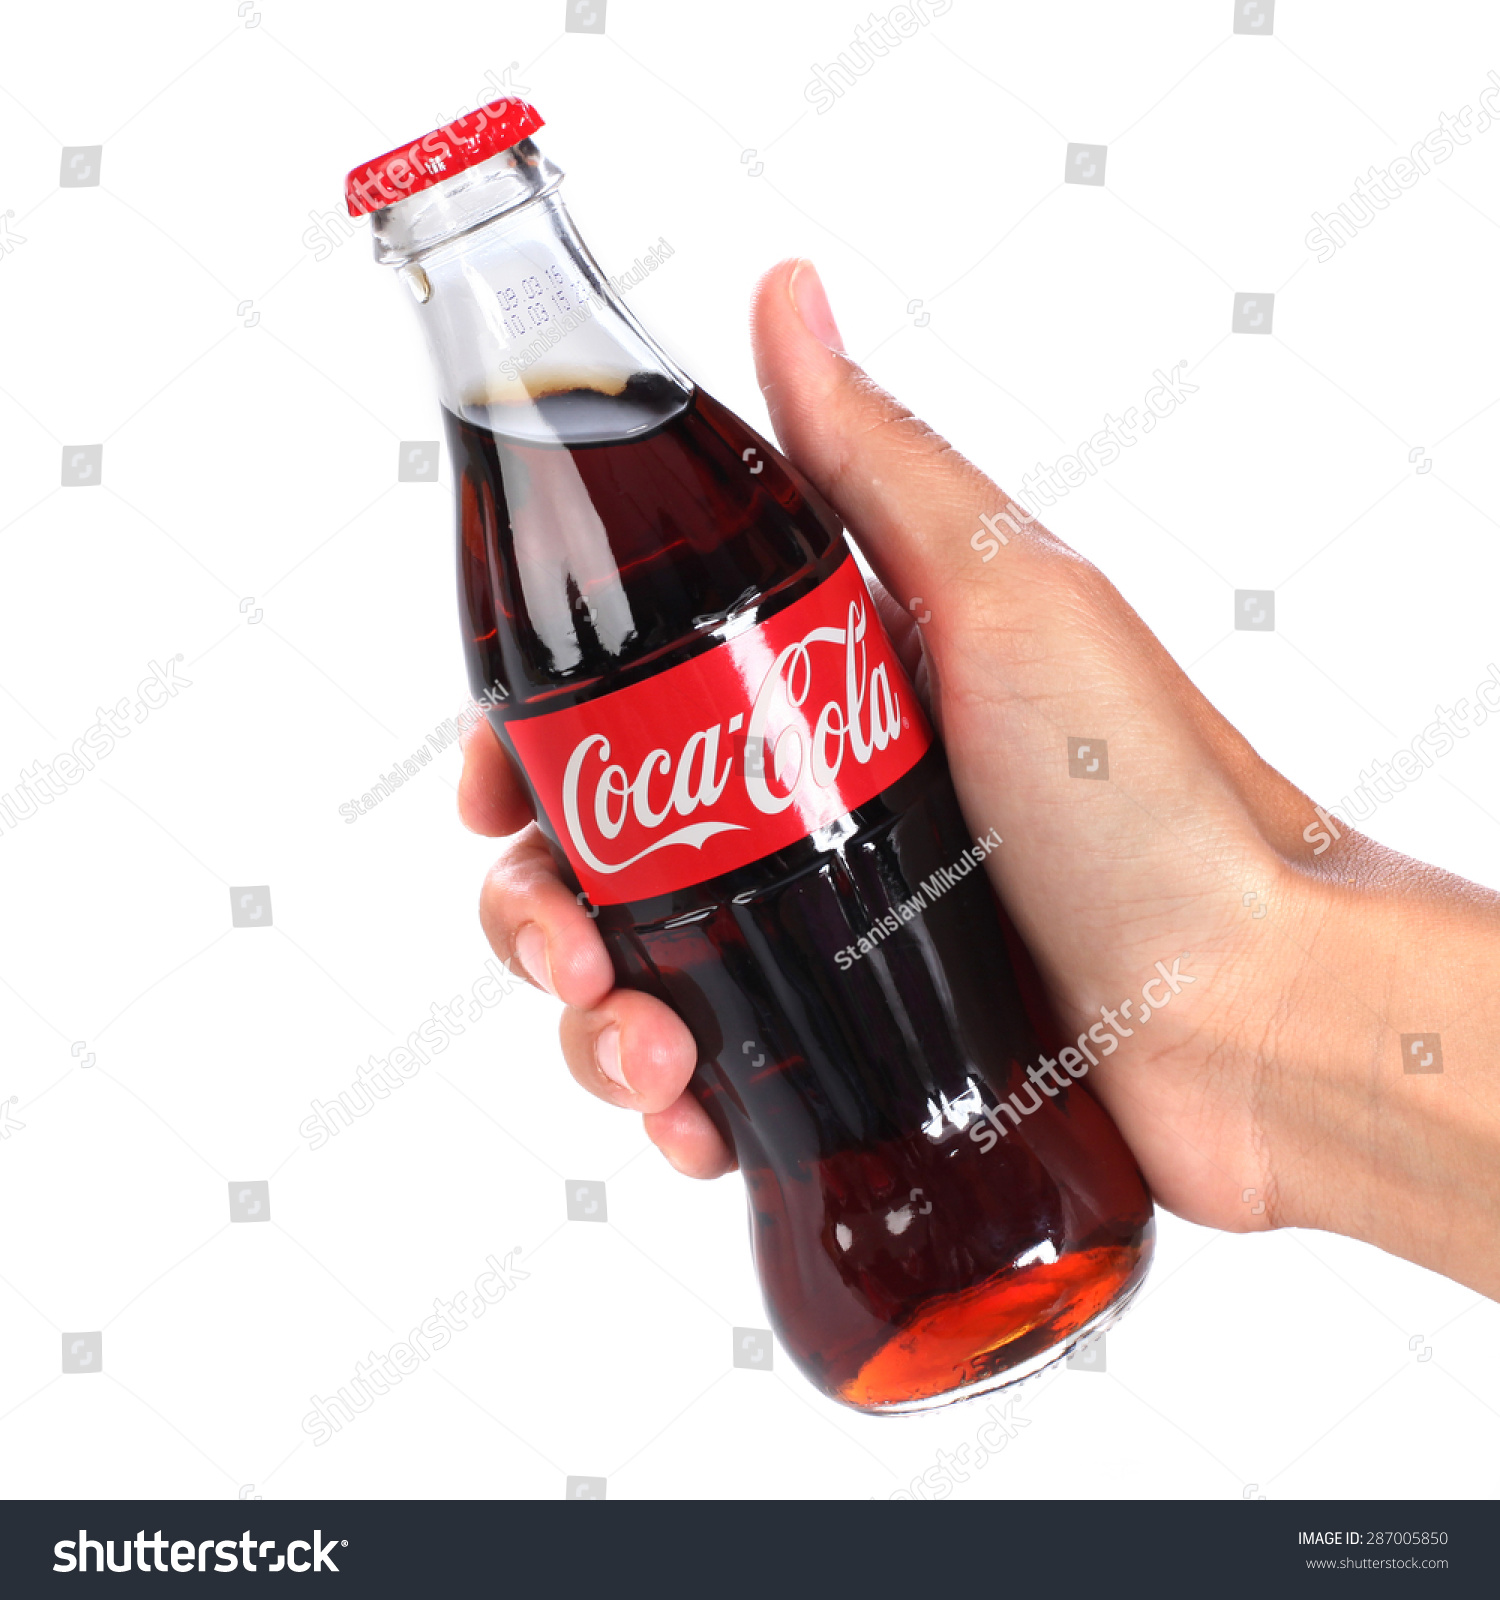coke: (426, 89, 1095, 1407)
